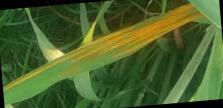Wheat: (73, 39, 110, 57), (111, 31, 148, 46), (149, 20, 174, 34), (173, 9, 199, 20)
